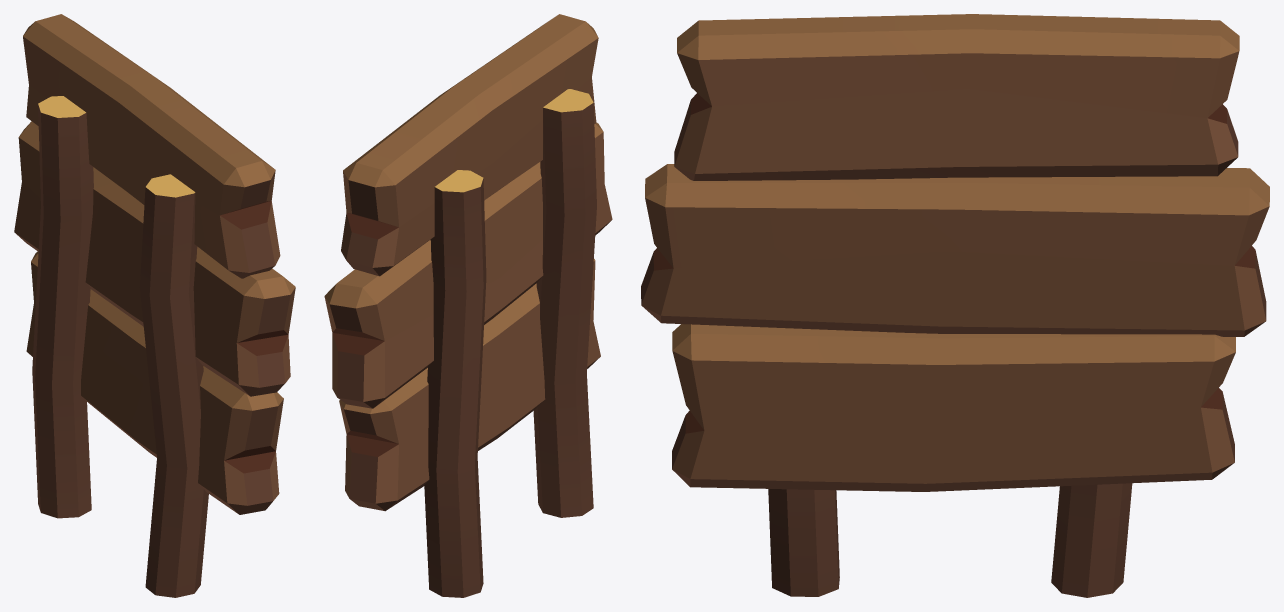
File: mesh_sign.fbx
3 renders of one model, left to right at view 1: azimuth 30°, elevation 25°; view 2: azimuth 150°, elevation 25°; view 3: azimuth 270°, elevation 25°, orthographic. The views are drawn at different scales.
Visible parts, largest first — view 1: mesh_sign; view 2: mesh_sign; view 3: mesh_sign.
Part boxes in pixels (x1,y1,x2,y2): mesh_sign: [14, 14, 295, 597]; mesh_sign: [324, 14, 612, 597]; mesh_sign: [641, 14, 1269, 597].
Size of the model in its own units: 0.4575 by 2.05 by 2.
Materials: 1 (1 with a texture image).
